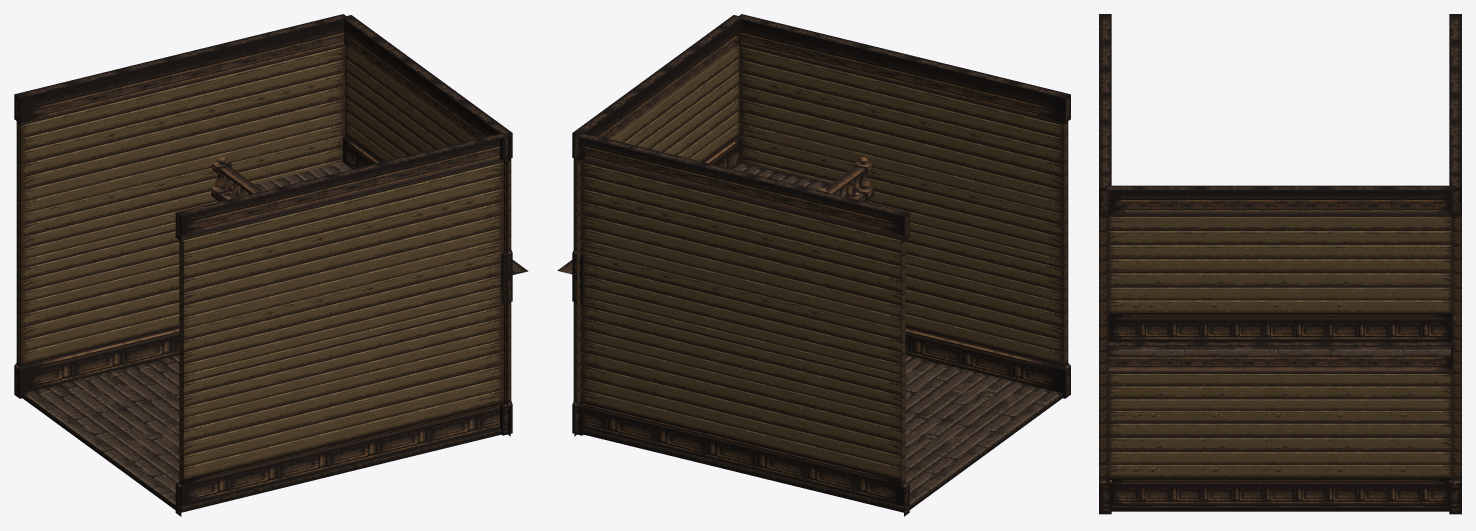
Rendered from EnvBdgMD_Wilderness_A_Indoor_A_Shop_Inn.FBX.
3 renders of one model, left to right at view 1: azimuth 30°, elevation 25°; view 2: azimuth 150°, elevation 25°; view 3: azimuth 270°, elevation 25°, orthographic. The views are drawn at different scales.
Parts seen in each view (by area): view 1: EnvBdgMD_Wilderness_A_Indoor_A_Shop_Inn; view 2: EnvBdgMD_Wilderness_A_Indoor_A_Shop_Inn; view 3: EnvBdgMD_Wilderness_A_Indoor_A_Shop_Inn.
Part boxes in pixels (bbox=[...]): EnvBdgMD_Wilderness_A_Indoor_A_Shop_Inn: bbox=[14, 14, 528, 516]; EnvBdgMD_Wilderness_A_Indoor_A_Shop_Inn: bbox=[557, 14, 1070, 516]; EnvBdgMD_Wilderness_A_Indoor_A_Shop_Inn: bbox=[1099, 14, 1461, 514].
Size of the model in its own units: 1410 by 1150 by 1160.
Materials: 1 (1 with a texture image).
